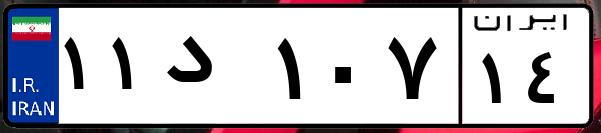0: (330, 28, 385, 110)
1: (270, 28, 330, 110), (57, 26, 110, 100), (475, 38, 525, 113), (110, 28, 158, 98)
4: (525, 38, 570, 115)
7: (385, 28, 445, 110)
د: (158, 20, 270, 120)
